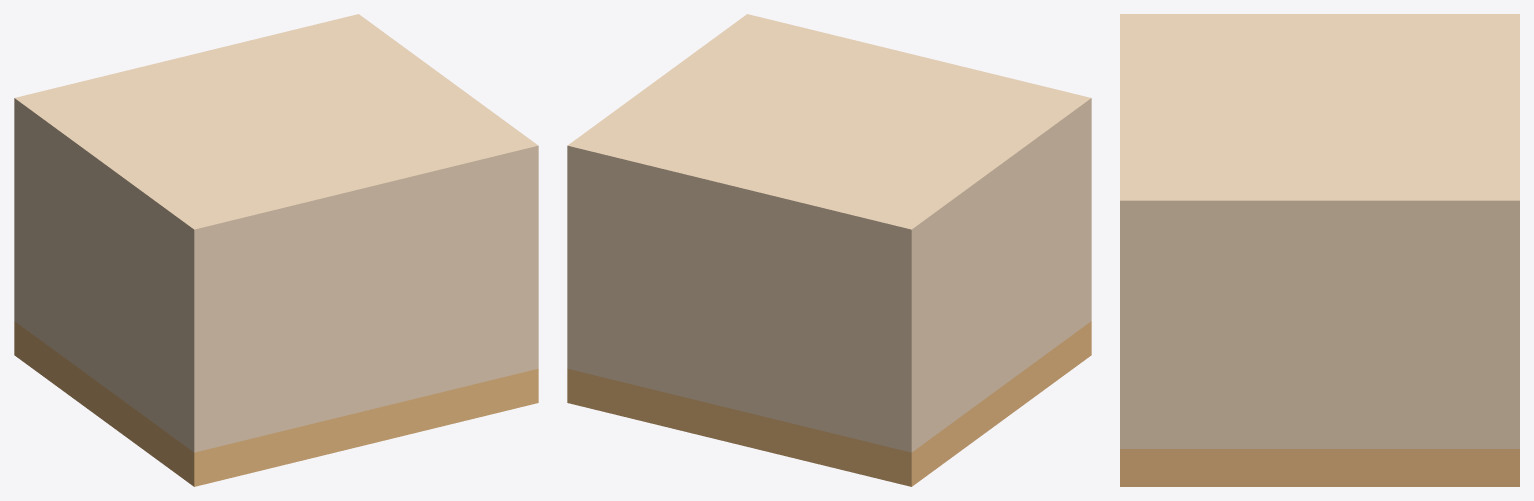
The model's file is noobGirl-3.obj.
3 views of the same model, side by side, from view 1: azimuth 30°, elevation 25°; view 2: azimuth 150°, elevation 25°; view 3: azimuth 270°, elevation 25° (orthographic). The views are drawn at different scales.
Size of the model in its own units: 4.2 by 3 by 3.8.
1 material, 1 textured.
